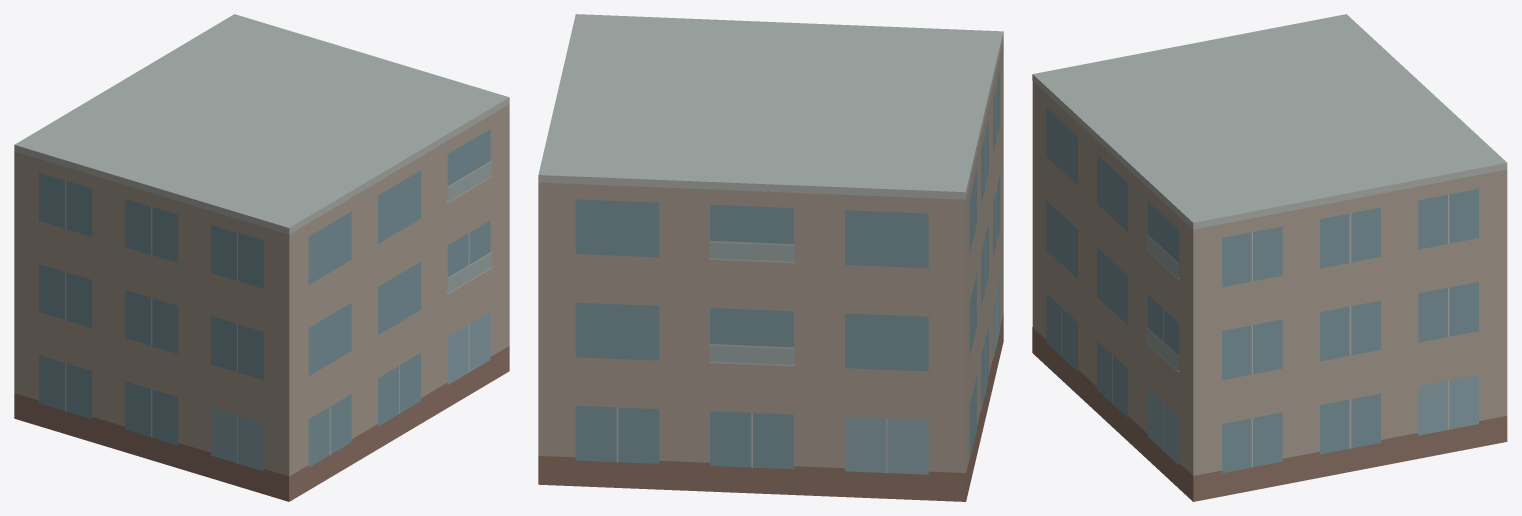
The model's file is survey-upis-32730061.glb.
3 views of the same model, side by side, from view 1: azimuth 30°, elevation 25°; view 2: azimuth 150°, elevation 25°; view 3: azimuth 270°, elevation 25° (orthographic). The views are drawn at different scales.
Visible parts, largest first — view 1: survey-upis-32730061.tmp; view 2: survey-upis-32730061.tmp; view 3: survey-upis-32730061.tmp.
Part boxes in pixels (x1,y1,x2,y2): survey-upis-32730061.tmp: (14,14,509,501); survey-upis-32730061.tmp: (538,14,1003,501); survey-upis-32730061.tmp: (1032,14,1507,501).
Bounding box in the file's own units: 16.23 × 10.1 × 15.59.
